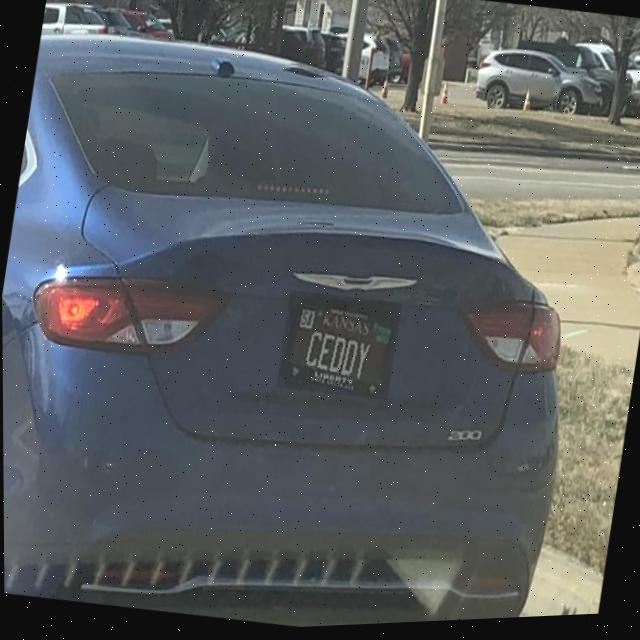LicensePlate: (277, 295, 400, 403)
